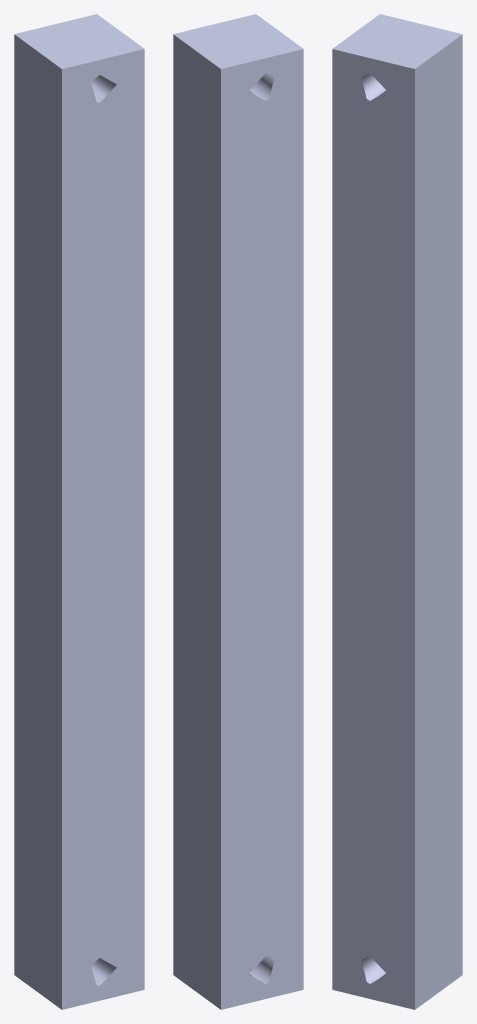
Rendered from rod.obj.
3 views of the same model, side by side, from view 1: azimuth 30°, elevation 25°; view 2: azimuth 210°, elevation 25°; view 3: azimuth 330°, elevation 25° (orthographic).
Parts seen in each view (by area): view 1: mesh 1 rod; view 2: mesh 1 rod; view 3: mesh 1 rod.
Part boxes in pixels (x1=…): mesh 1 rod: x1=14, y1=14, x2=144, y2=1009; mesh 1 rod: x1=173, y1=14, x2=303, y2=1009; mesh 1 rod: x1=332, y1=14, x2=462, y2=1009.
Bounding box in the file's own units: 0.003 × 0.0326 × 0.003.
